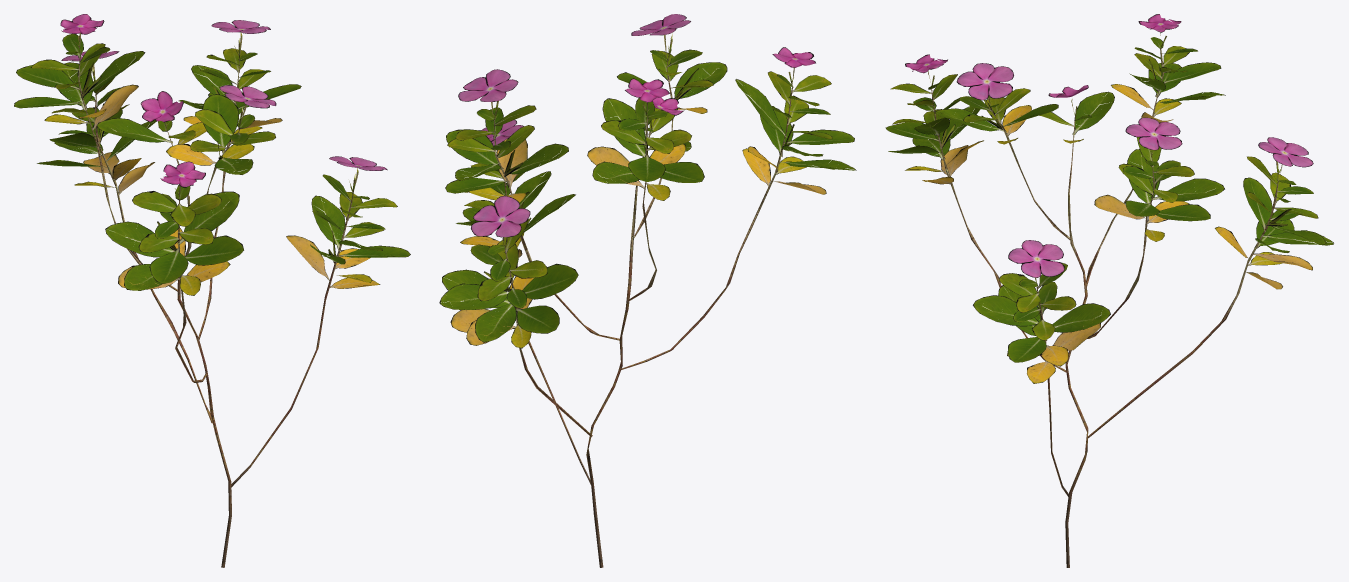
The model's file is flower_blue.glb.
3 views of the same model, side by side, from view 1: azimuth 30°, elevation 25°; view 2: azimuth 150°, elevation 25°; view 3: azimuth 270°, elevation 25° (orthographic). The views are drawn at different scales.
Parts seen in each view (by area): view 1: periwinkle_plant_01_LOD0; view 2: periwinkle_plant_01_LOD0; view 3: periwinkle_plant_01_LOD0.
Part boxes in pixels (x1=…): periwinkle_plant_01_LOD0: x1=14, y1=14, x2=410, y2=567; periwinkle_plant_01_LOD0: x1=439, y1=14, x2=856, y2=567; periwinkle_plant_01_LOD0: x1=885, y1=14, x2=1333, y2=567.
Size of the model in its own units: 0.2608 by 0.3971 by 0.3207.
1 material, 1 textured.
